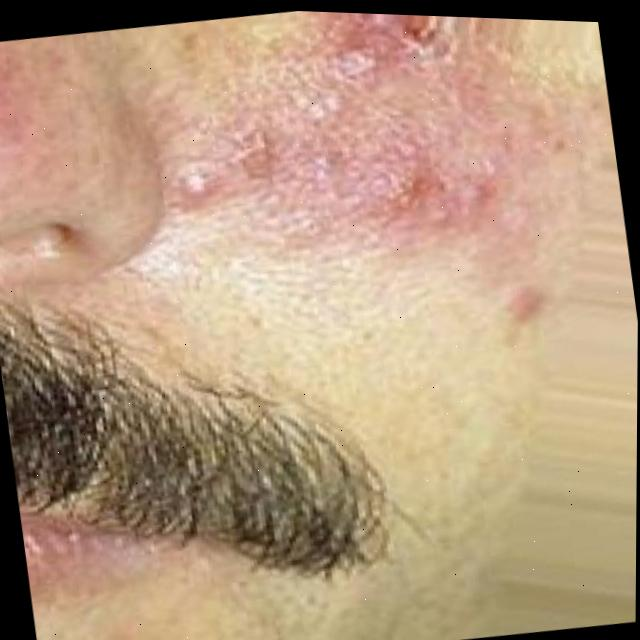Rosacea: (149, 6, 547, 368), (0, 35, 64, 197)
